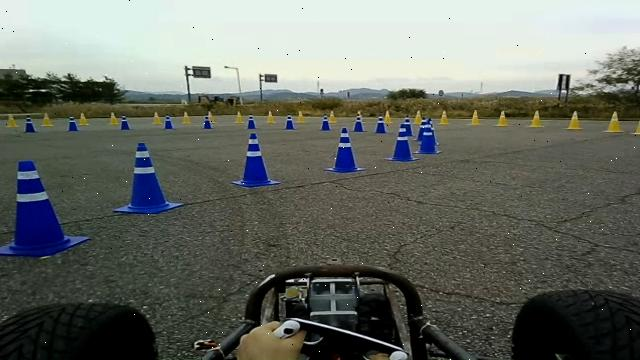blue cone: (0, 160, 91, 258), (112, 142, 184, 214), (230, 132, 281, 187), (323, 127, 367, 173), (383, 123, 419, 162), (398, 115, 414, 136), (372, 115, 388, 134), (352, 113, 366, 132), (23, 116, 37, 133), (318, 115, 333, 130), (66, 116, 79, 132), (284, 114, 297, 130), (162, 114, 175, 129), (244, 115, 257, 130), (119, 115, 131, 130), (203, 115, 213, 128)
yellow cone: (603, 111, 624, 132), (564, 110, 582, 130), (527, 110, 544, 127), (494, 110, 509, 126), (6, 114, 19, 127), (41, 112, 53, 126), (470, 109, 480, 125), (438, 110, 449, 124), (78, 112, 89, 126), (108, 112, 119, 125), (182, 110, 192, 124), (412, 110, 422, 124), (234, 110, 244, 123), (266, 110, 276, 123), (383, 110, 392, 124), (152, 112, 162, 124), (296, 110, 305, 123), (328, 110, 337, 123), (207, 110, 216, 122)
